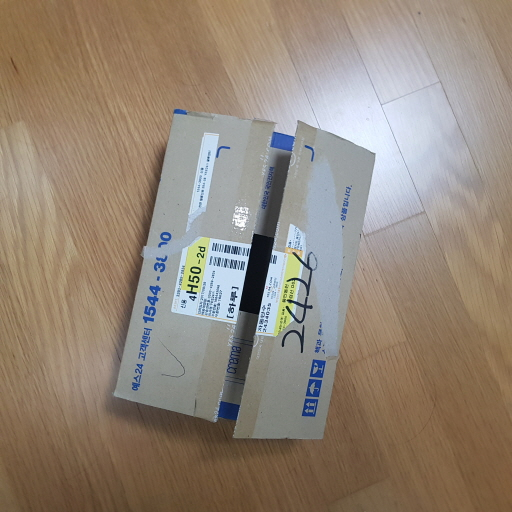Paper_0: (107, 101, 383, 453)
